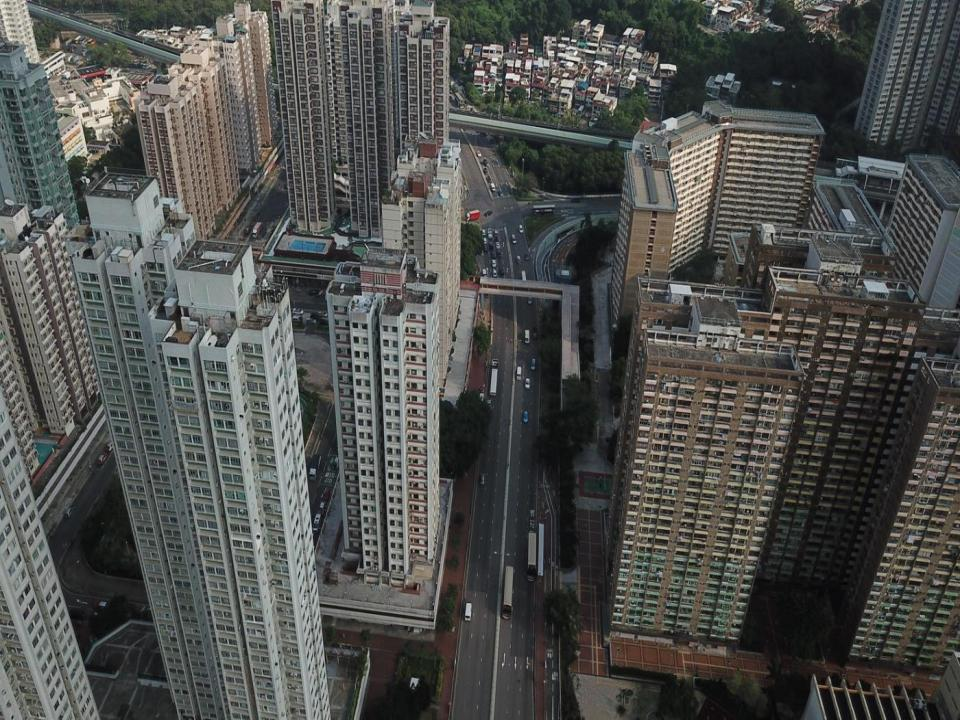bus: (502, 564, 514, 620), (526, 532, 537, 582), (532, 203, 556, 218), (454, 91, 464, 109), (520, 269, 528, 287)
car: (139, 604, 157, 618), (66, 608, 85, 620), (92, 600, 110, 612), (95, 451, 109, 466), (63, 504, 76, 520), (321, 487, 330, 503), (104, 441, 115, 454), (316, 501, 326, 515), (317, 316, 329, 325), (524, 328, 530, 344), (292, 307, 304, 315), (332, 456, 339, 469), (316, 310, 329, 317), (532, 325, 538, 340), (524, 378, 531, 390), (308, 289, 320, 296), (305, 317, 317, 324), (480, 472, 486, 485), (522, 410, 528, 423), (526, 292, 532, 305), (484, 210, 493, 218), (511, 233, 517, 244), (316, 290, 327, 296), (531, 357, 536, 370), (498, 265, 504, 275), (518, 223, 524, 233), (486, 174, 492, 184), (481, 237, 488, 245), (482, 158, 489, 166), (244, 226, 251, 234), (492, 268, 498, 277), (496, 248, 502, 257), (516, 254, 522, 263), (488, 241, 494, 250), (493, 229, 499, 238), (490, 182, 496, 191), (490, 258, 496, 266), (524, 252, 530, 260), (498, 188, 504, 196), (476, 149, 482, 157), (494, 241, 500, 248), (482, 245, 488, 252), (481, 228, 486, 236), (483, 167, 488, 175), (491, 251, 496, 258), (448, 95, 452, 103)
truck: (489, 357, 499, 397), (308, 454, 321, 482), (465, 208, 480, 221), (251, 221, 262, 238), (486, 226, 494, 239)
van: (311, 512, 322, 534), (464, 601, 472, 622), (516, 365, 522, 381), (292, 314, 302, 322)
